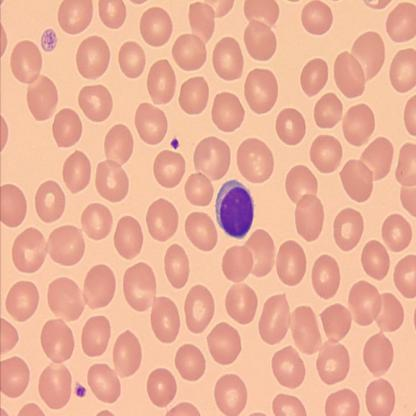Lymphocyte: (215, 179, 256, 240)
